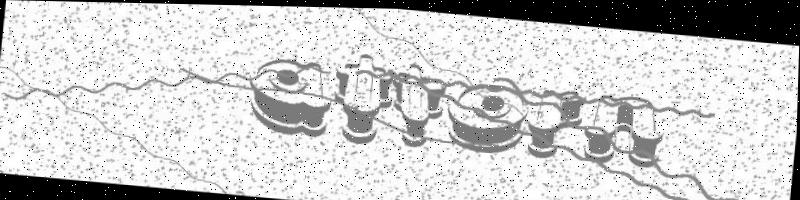a: (245, 53, 339, 138)
n: (581, 89, 668, 167)
o: (442, 76, 530, 154)
r: (524, 83, 586, 159)
t: (329, 48, 399, 145), (388, 58, 450, 148)
